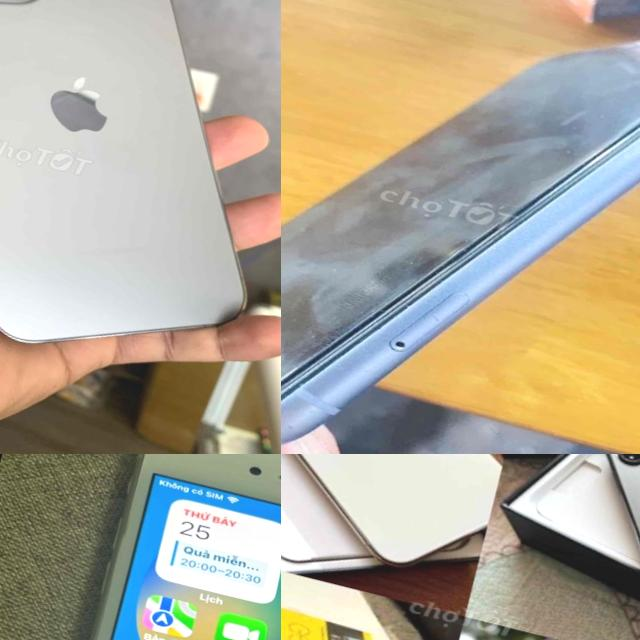scratch: (287, 319, 401, 454)
